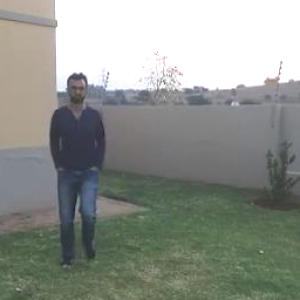follow: (45, 68, 110, 259)
